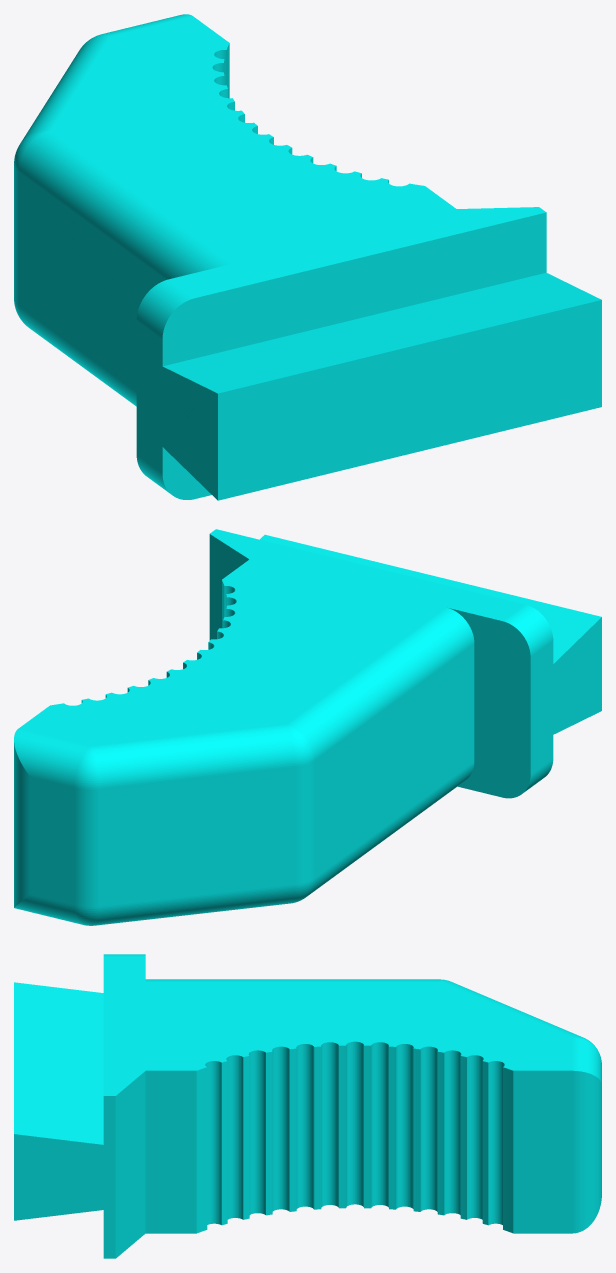
The model's file is gripper_finger_body.dae.
3 renders of one model, top to bottom at view 1: azimuth 30°, elevation 25°; view 2: azimuth 150°, elevation 25°; view 3: azimuth 270°, elevation 25°, orthographic. The views are drawn at different scales.
Visible parts, largest first — view 1: node0; view 2: node0; view 3: node0.
Boxes of the visible parts, x1,y1,x2,y2 form: node0: [14, 14, 601, 500]; node0: [14, 529, 601, 925]; node0: [14, 954, 601, 1258].
Bounding box in the file's own units: 0.06 × 0.0983 × 0.03.
